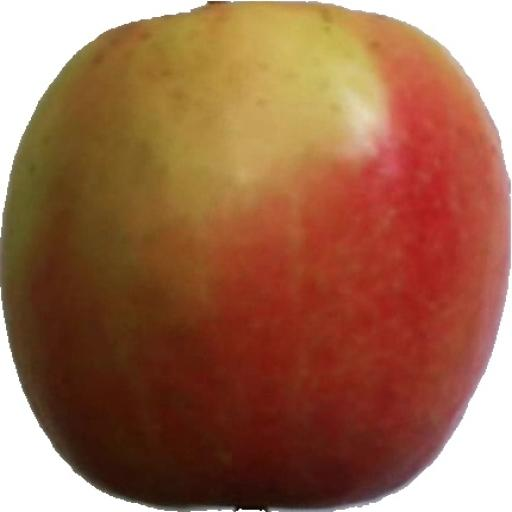apple-ripe: (0, 0, 512, 505)
